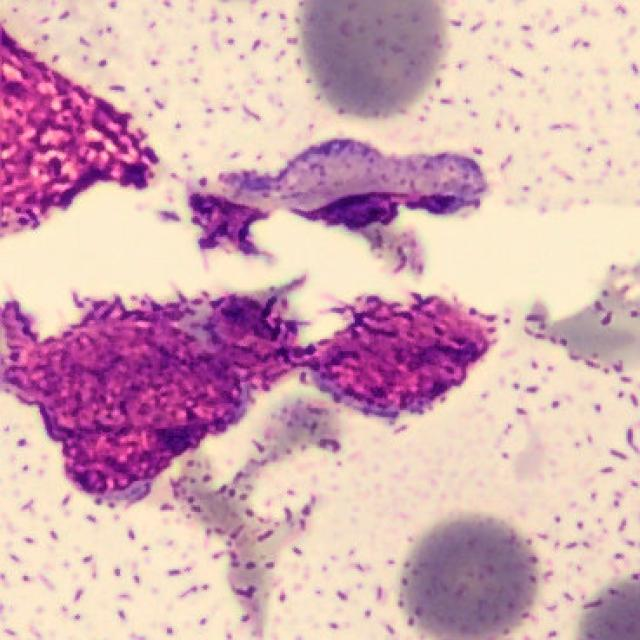Restos celulares: (3, 273, 499, 507), (186, 142, 487, 275), (0, 22, 160, 237)
